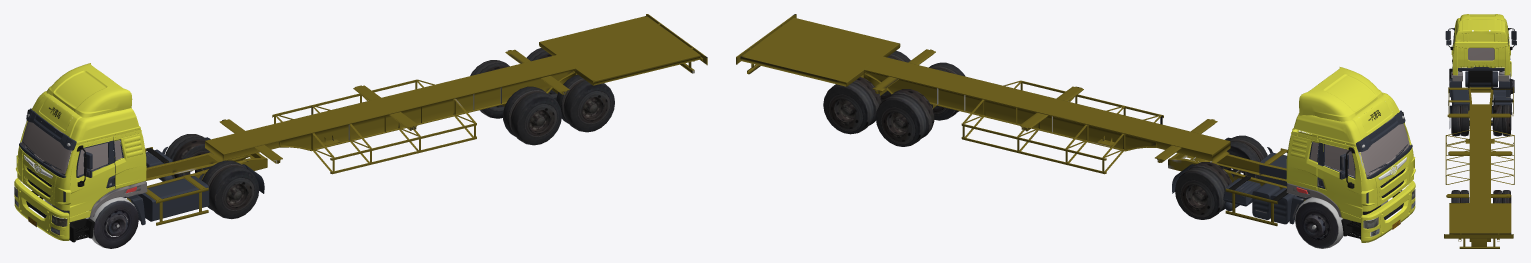
The model's file is QYC.glb.
3 renders of one model, left to right at view 1: azimuth 30°, elevation 25°; view 2: azimuth 150°, elevation 25°; view 3: azimuth 270°, elevation 25°, orthographic. The views are drawn at different scales.
Visible parts, largest first — view 1: polySurface296; view 2: polySurface296; view 3: polySurface296.
Part boxes in pixels (bbox=[...]): polySurface296: bbox=[14, 14, 707, 248]; polySurface296: bbox=[736, 14, 1415, 248]; polySurface296: bbox=[1444, 14, 1516, 248].
Size of the model in its own units: 19033 by 4241 by 3241.
1 material, 1 textured.
